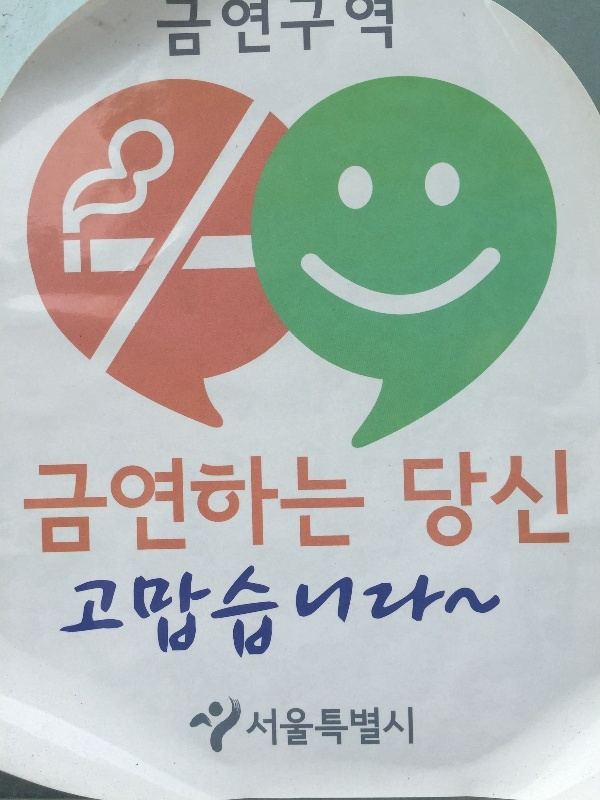text: (65, 553, 80, 667), (81, 553, 96, 667), (97, 553, 112, 667), (113, 553, 128, 667), (129, 553, 144, 667), (145, 553, 160, 667), (161, 553, 176, 667), (177, 553, 192, 667), (193, 553, 208, 667), (209, 553, 224, 667), (225, 553, 240, 667), (241, 553, 256, 667), (257, 553, 272, 667), (273, 553, 288, 667), (289, 553, 304, 667), (305, 553, 320, 667), (321, 553, 336, 667), (337, 553, 352, 667), (353, 553, 368, 667), (369, 553, 384, 667), (385, 553, 400, 667), (401, 553, 416, 667), (417, 553, 432, 667), (433, 553, 448, 667), (449, 553, 464, 667), (465, 553, 480, 667), (481, 553, 496, 667), (33, 452, 48, 559), (49, 452, 64, 559), (65, 452, 80, 559), (81, 452, 96, 559), (97, 452, 112, 559), (113, 452, 128, 559), (129, 452, 144, 559), (145, 452, 160, 559), (161, 452, 176, 559), (177, 452, 192, 559), (193, 452, 208, 559), (209, 452, 224, 559), (225, 452, 240, 559), (241, 452, 256, 559), (257, 452, 272, 559), (273, 452, 288, 559), (289, 452, 304, 559), (305, 452, 320, 559), (321, 452, 336, 559), (337, 452, 352, 559), (417, 447, 432, 551), (433, 447, 448, 551), (449, 447, 464, 551), (465, 447, 480, 551), (481, 447, 496, 551), (497, 447, 512, 551), (513, 447, 528, 551), (529, 447, 544, 551), (545, 447, 560, 551), (353, 452, 366, 559), (403, 447, 416, 551), (161, 2, 176, 65), (177, 2, 192, 65), (193, 2, 208, 65), (209, 2, 224, 65), (225, 2, 240, 65), (241, 2, 256, 65), (257, 2, 272, 65), (273, 2, 288, 65), (289, 2, 304, 65), (305, 2, 320, 65), (321, 2, 336, 65), (337, 2, 352, 65), (353, 2, 368, 65), (369, 2, 384, 65), (561, 447, 570, 551), (24, 452, 32, 559), (257, 704, 272, 750), (273, 704, 288, 750), (289, 704, 304, 750), (305, 704, 320, 750), (321, 704, 336, 750), (337, 704, 352, 750), (353, 704, 368, 750), (369, 704, 384, 750), (385, 704, 400, 750), (497, 553, 503, 667), (401, 704, 415, 750), (385, 2, 395, 65), (246, 704, 256, 750), (60, 553, 64, 667), (155, 2, 160, 65)
